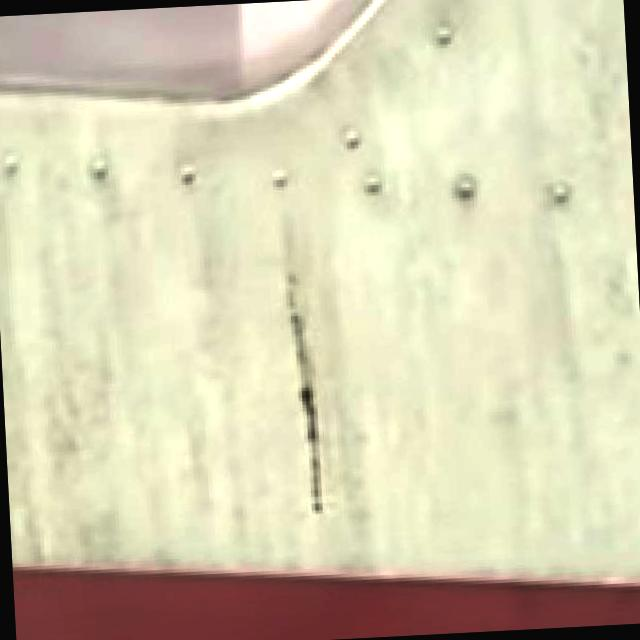crack: (270, 282, 366, 519)
